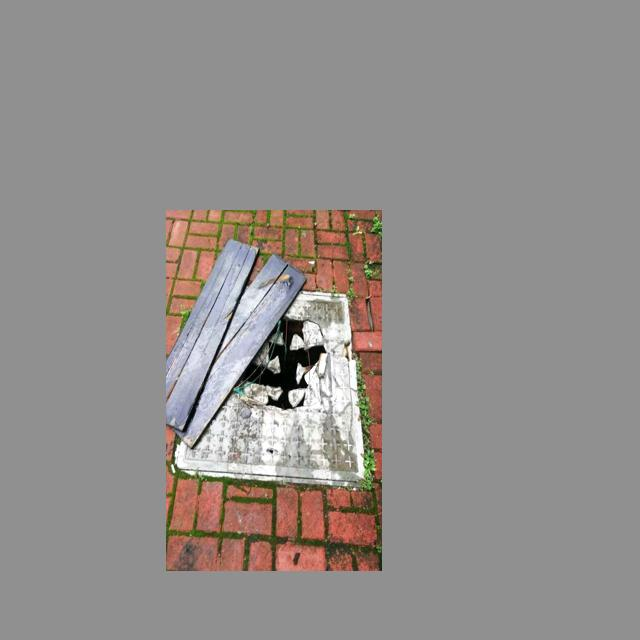broke: (171, 271, 367, 491)
